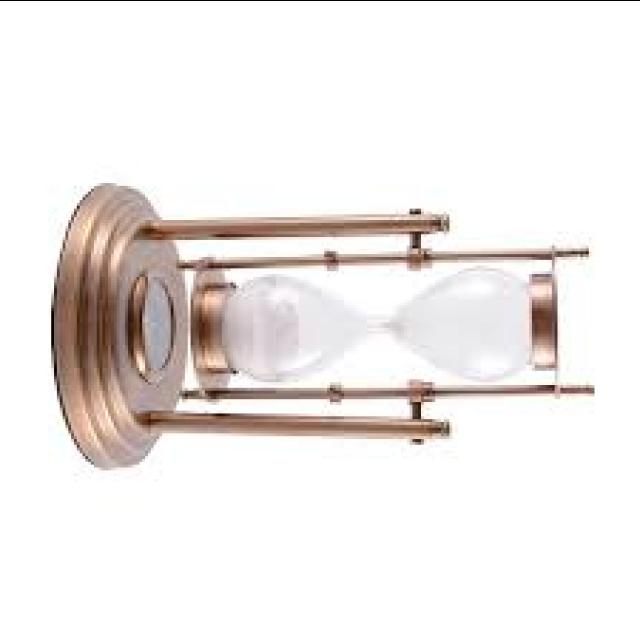clock: (169, 248, 601, 410)
